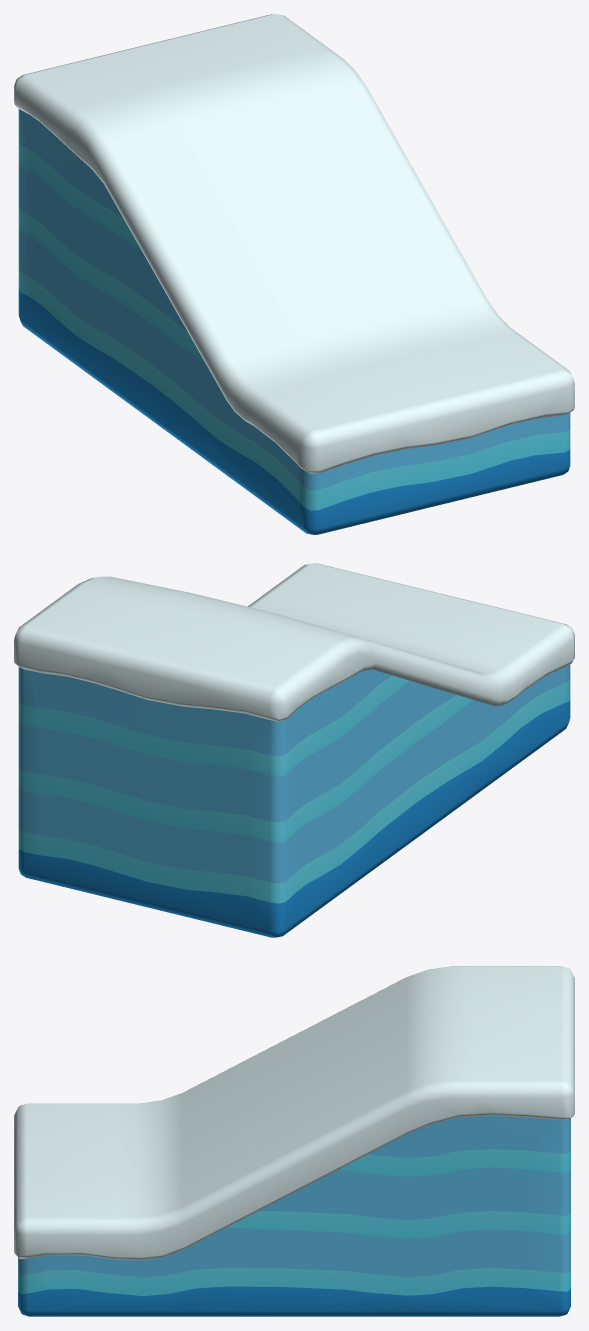
File: ice_platform_002.fbx
The picture shows the model from 3 angles, top to bottom: view 1: azimuth 30°, elevation 25°; view 2: azimuth 150°, elevation 25°; view 3: azimuth 270°, elevation 25°; orthographic projection. The views are drawn at different scales.
Visible parts, largest first — view 1: ice_platform_002; view 2: ice_platform_002; view 3: ice_platform_002.
Part boxes in pixels (x1=…): ice_platform_002: x1=14, y1=14, x2=574, y2=534; ice_platform_002: x1=14, y1=563, x2=574, y2=937; ice_platform_002: x1=14, y1=966, x2=574, y2=1316.
Size of the model in its own units: 447 by 849 by 400.
